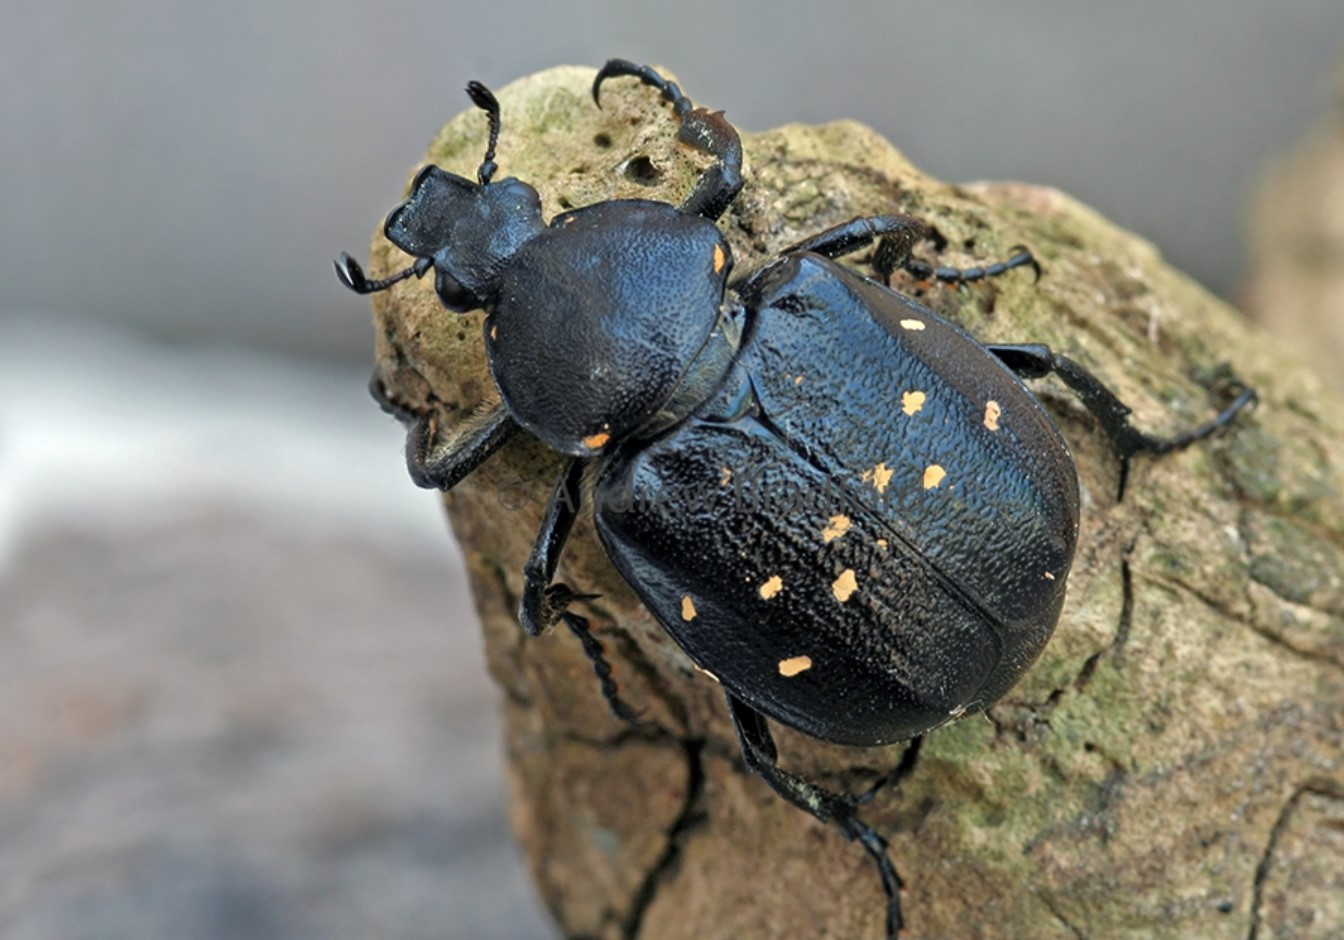Gnorimus_variabilis: (307, 44, 1285, 940)
